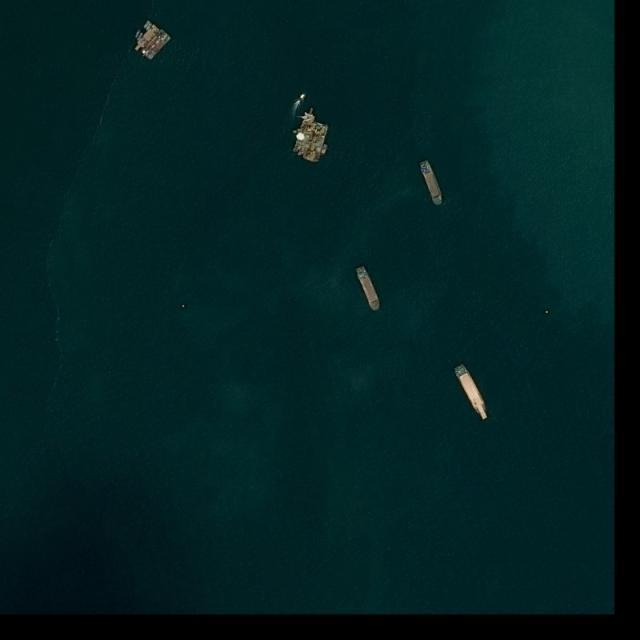ship: (453, 363, 492, 422), (418, 160, 446, 206), (356, 266, 383, 310), (142, 28, 173, 61), (135, 24, 160, 51), (142, 20, 152, 30), (321, 144, 328, 156), (146, 23, 154, 31), (135, 30, 142, 39), (137, 33, 144, 41), (309, 107, 314, 115), (300, 94, 306, 100)
